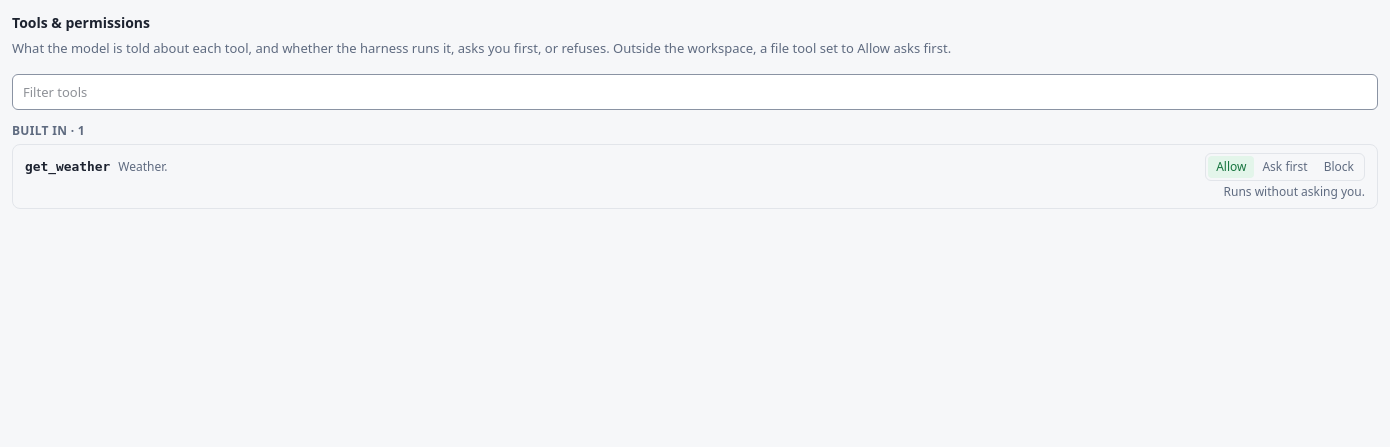
Test case: a tool description shows its length against the limit
Step 1. Click the button "get_weather Weather." → (68, 167), box [25,157,1197,176]
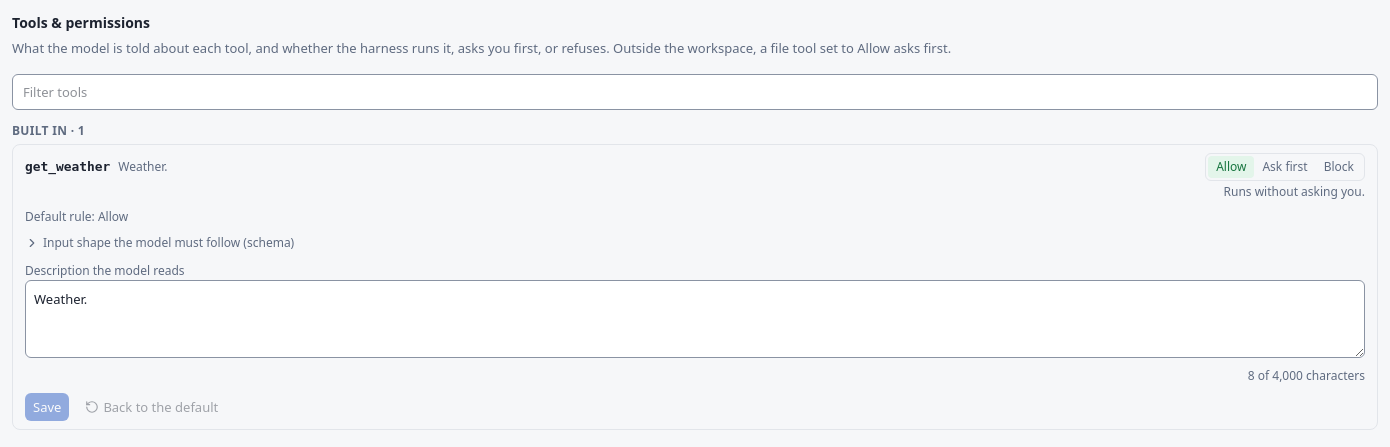
Check: the text "8 of 4,000 characters" is shown, box [1248,367,1365,384]
